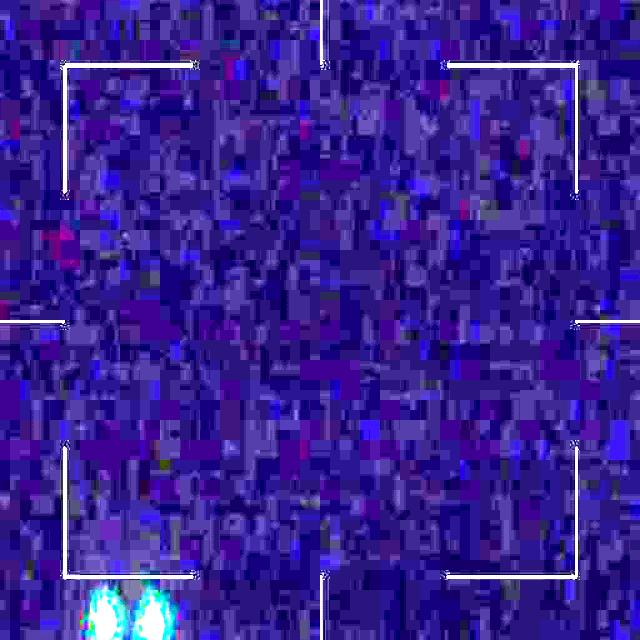bird: (92, 598, 166, 640)
